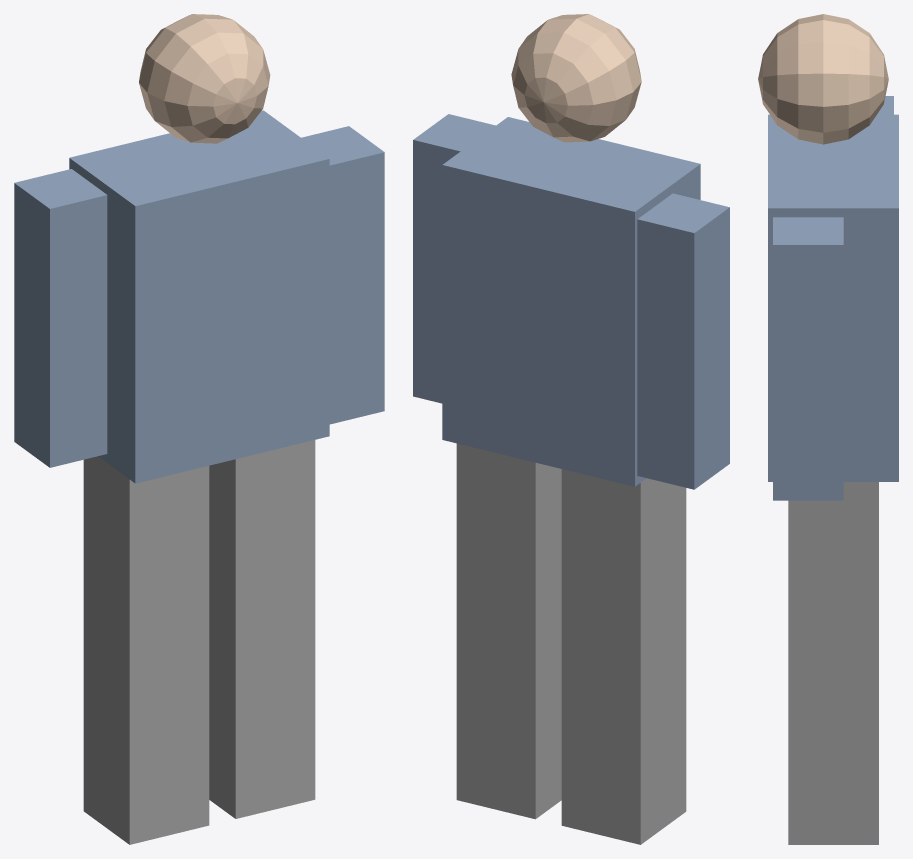
File: pivot_180.glb
The picture shows the model from 3 angles, left to right: view 1: azimuth 30°, elevation 25°; view 2: azimuth 150°, elevation 25°; view 3: azimuth 270°, elevation 25°; orthographic projection.
Visible parts, largest first — view 1: torso, leg_l, leg_r, arm_l, arm_r, head; view 2: torso, leg_l, leg_r, arm_l, head, arm_r; view 3: leg_r, torso, arm_r, head.
Boxes of the visible parts, x1,y1,x2,y2 form: torso: (69, 110, 329, 483); leg_l: (83, 456, 209, 844); leg_r: (209, 440, 315, 818); arm_l: (14, 169, 107, 467); arm_r: (301, 126, 384, 424); head: (139, 14, 270, 143); torso: (442, 117, 700, 486); leg_l: (561, 469, 686, 844); leg_r: (456, 443, 561, 819); arm_l: (637, 193, 729, 489); head: (511, 14, 641, 142); arm_r: (413, 114, 495, 403); leg_r: (788, 482, 878, 844); torso: (768, 114, 898, 481); arm_r: (773, 217, 843, 500); head: (758, 14, 888, 144).
Size of the model in its own units: 0.7001 by 1.71 by 0.2798.
